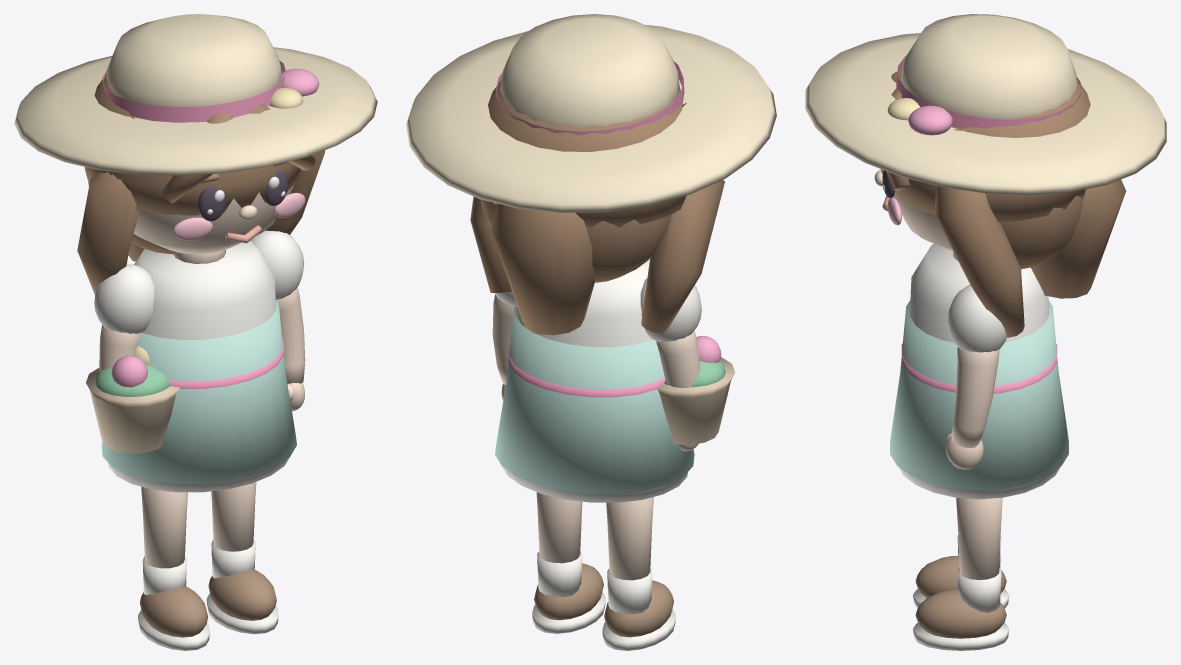
The model's file is Char_Florist.fbx.
The picture shows the model from 3 angles, left to right: view 1: azimuth 30°, elevation 25°; view 2: azimuth 150°, elevation 25°; view 3: azimuth 270°, elevation 25°; orthographic projection. The views are drawn at different scales.
Visible parts, largest first — view 1: Torso, LegL, LegR, ArmR, ArmL; view 2: Torso, LegL, LegR, ArmL, ArmR; view 3: Torso, LegR, ArmR, LegL.
Boxes of the visible parts, box(x1,y1,x2,y2) form: Torso: box(14, 14, 377, 492); LegL: box(138, 486, 209, 650); LegR: box(206, 482, 278, 634); ArmR: box(250, 230, 305, 411); ArmL: box(94, 264, 154, 371); Torso: box(406, 14, 776, 502); LegL: box(602, 497, 675, 650); LegR: box(532, 492, 605, 633); ArmL: box(640, 278, 701, 451); ArmR: box(492, 291, 516, 400); Torso: box(805, 14, 1166, 499); LegR: box(913, 497, 1009, 650); ArmR: box(946, 285, 1006, 469); LegL: box(913, 535, 1009, 608).
Size of the model in its own units: 0.918 by 1.63 by 0.9068.
